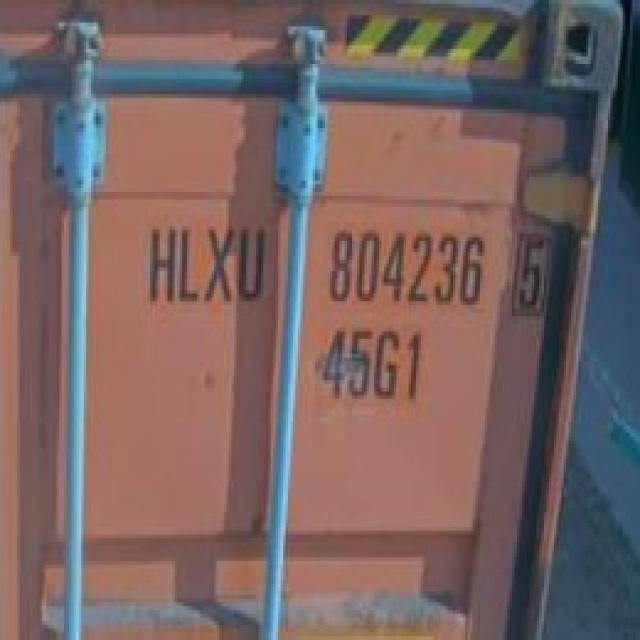dv: (506, 225, 550, 327)
owner: (146, 216, 268, 307)
serial: (323, 222, 488, 312)
size: (313, 320, 431, 410)
